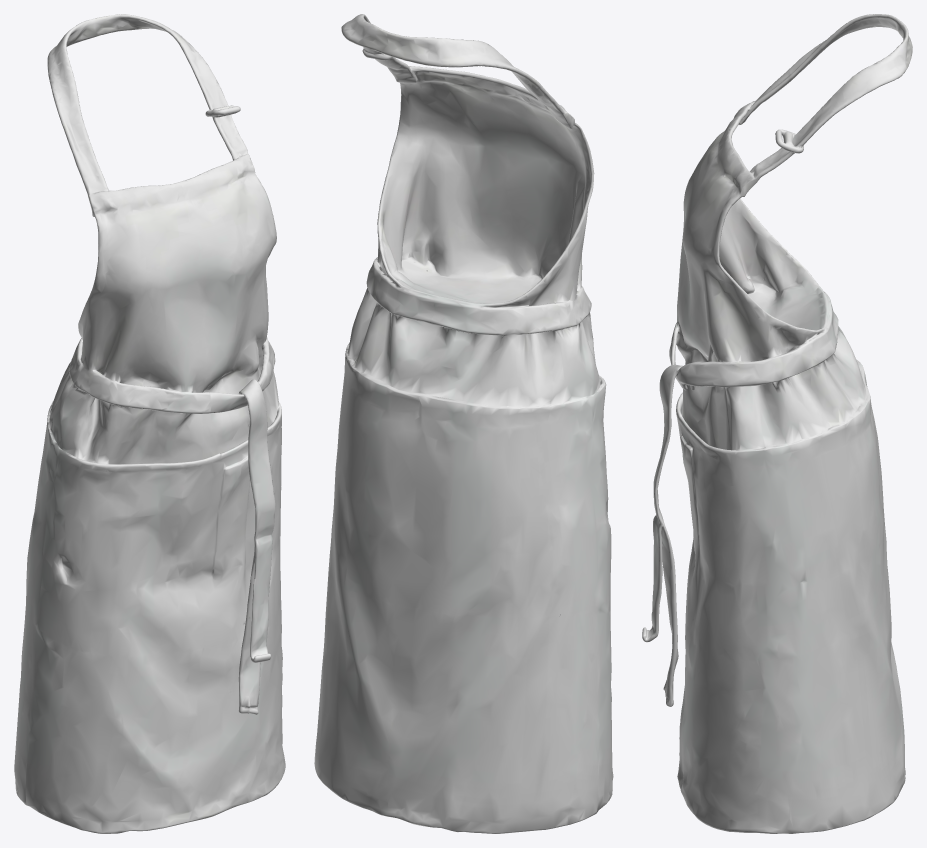
3 views of the same model, side by side, from view 1: azimuth 30°, elevation 25°; view 2: azimuth 150°, elevation 25°; view 3: azimuth 270°, elevation 25° (orthographic). The views are drawn at different scales.
Parts seen in each view (by area): view 1: tripo_node_05adf46b-c9da-41a0-bb4b-07e5fb0c3d79; view 2: tripo_node_05adf46b-c9da-41a0-bb4b-07e5fb0c3d79; view 3: tripo_node_05adf46b-c9da-41a0-bb4b-07e5fb0c3d79.
Boxes of the visible parts, left/top/right/bottom form: tripo_node_05adf46b-c9da-41a0-bb4b-07e5fb0c3d79: left=14, top=14, right=285, bottom=833; tripo_node_05adf46b-c9da-41a0-bb4b-07e5fb0c3d79: left=314, top=14, right=613, bottom=833; tripo_node_05adf46b-c9da-41a0-bb4b-07e5fb0c3d79: left=642, top=14, right=912, bottom=833.
Size of the model in its own units: 0.3555 by 0.9999 by 0.3258.
1 material, 1 textured.
